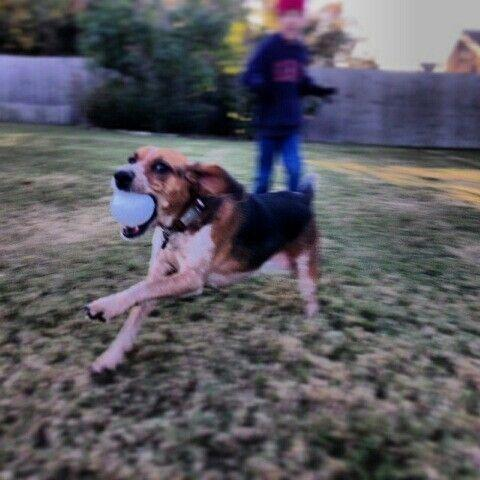adult_dog: (84, 145, 321, 378)
non-dog: (240, 11, 344, 197)
